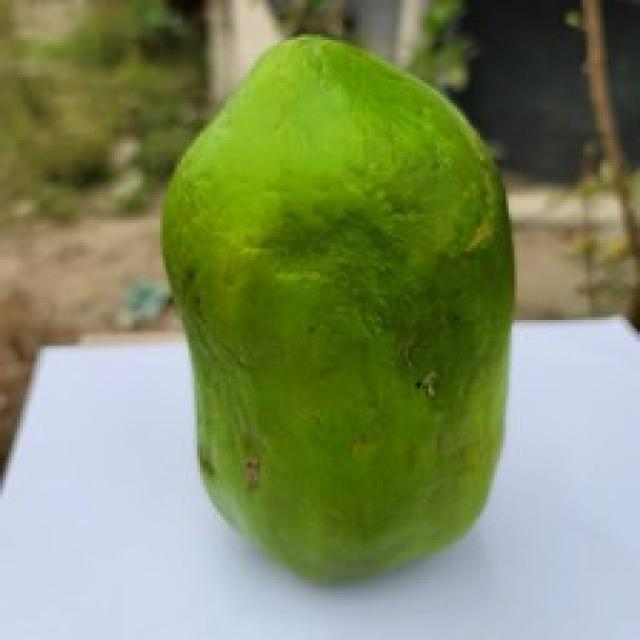Pepaya unrippen: (170, 39, 530, 574)
